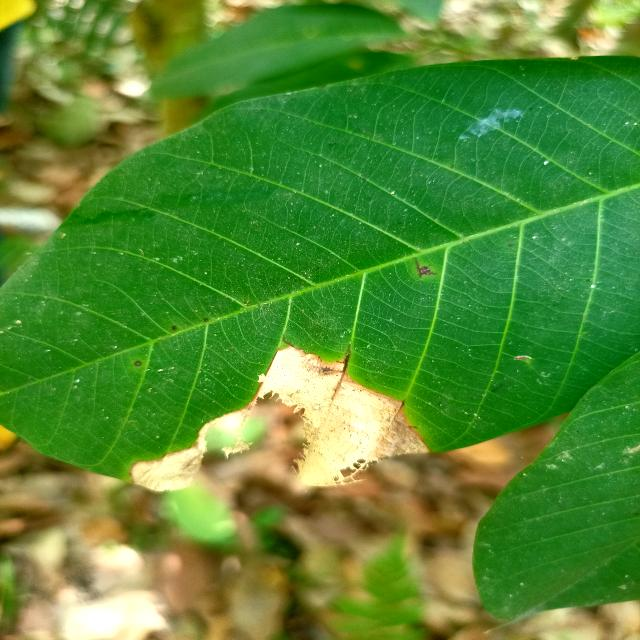Corynespora: (414, 257, 438, 278)
Leaf-Blight: (131, 345, 431, 491)
